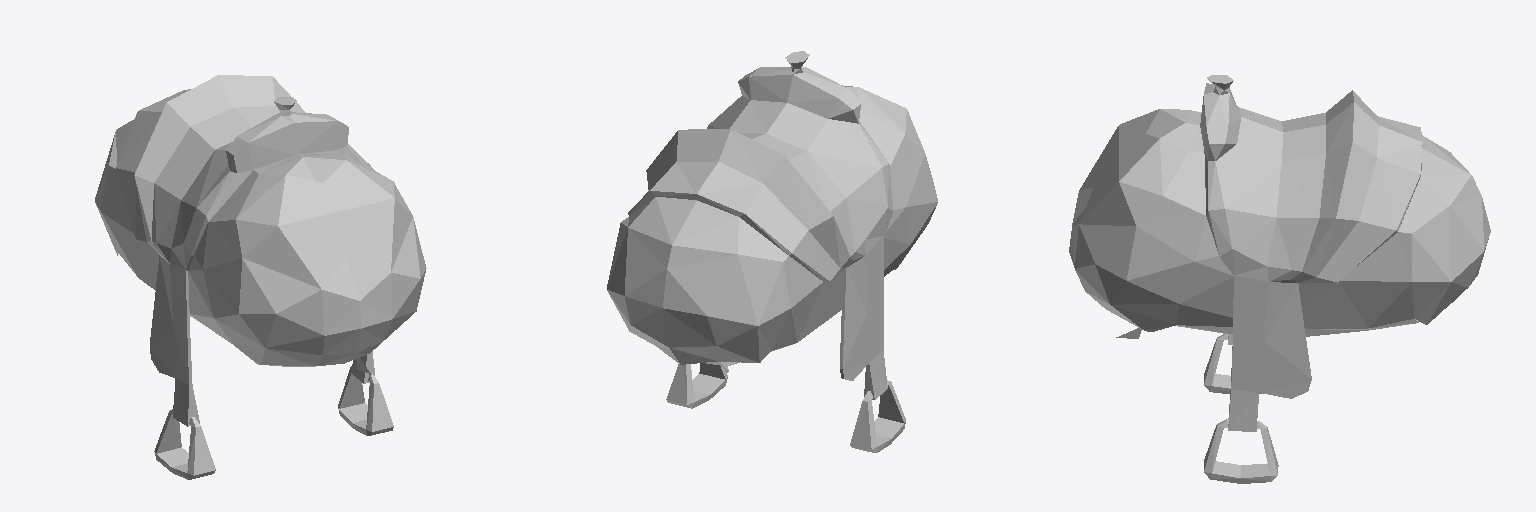
File: cuerpo_caballoTS.obj
The picture shows the model from 3 angles: view 1: azimuth 30°, elevation 25°; view 2: azimuth 150°, elevation 25°; view 3: azimuth 270°, elevation 25°; orthographic projection.
Visible parts, largest first — view 1: cuerpo_caballoTS; view 2: cuerpo_caballoTS; view 3: cuerpo_caballoTS.
Part boxes in pixels (x1,y1,x2,y2): cuerpo_caballoTS: (95, 75, 426, 479); cuerpo_caballoTS: (607, 51, 937, 452); cuerpo_caballoTS: (1069, 75, 1490, 483).
Bounding box in the file's own units: 4.67 × 7.59 × 8.16.